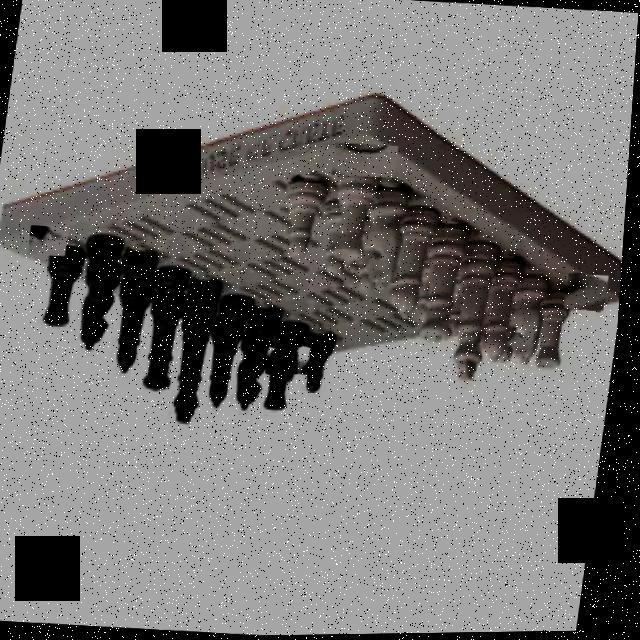chess-table-corners: (334, 142, 401, 179), (568, 273, 612, 314), (270, 344, 316, 376), (31, 225, 72, 257)
